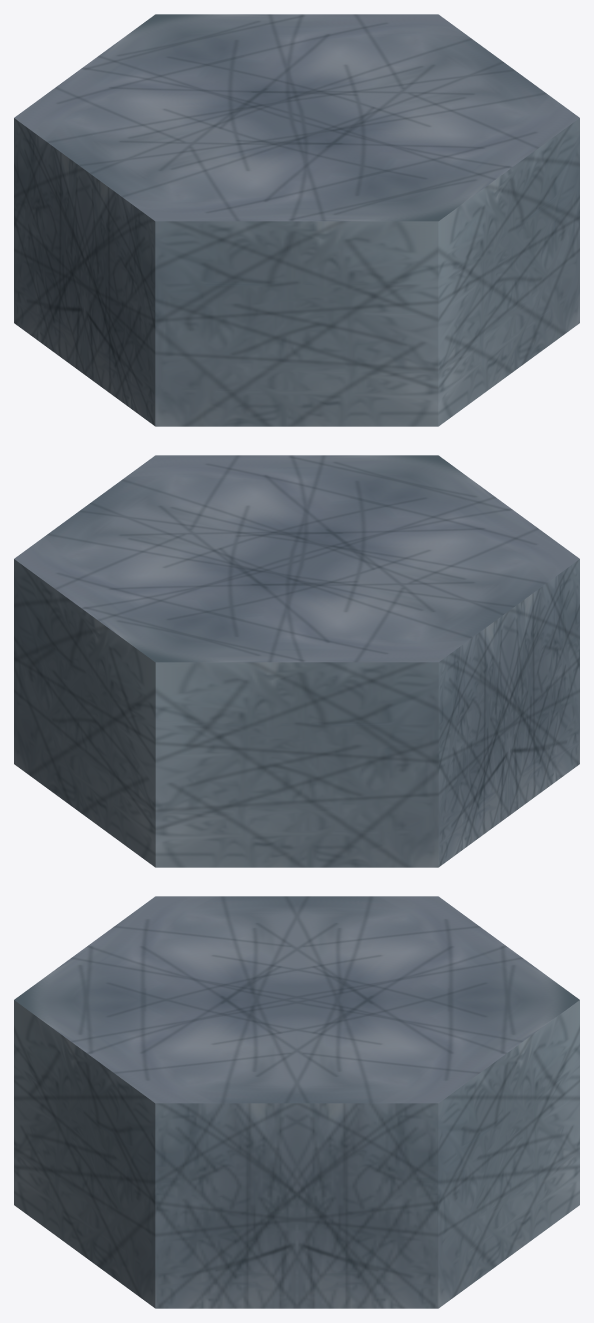
File: hex-block-stone-grey.glb
3 renders of one model, top to bottom at view 1: azimuth 30°, elevation 25°; view 2: azimuth 150°, elevation 25°; view 3: azimuth 270°, elevation 25°, orthographic.
Visible parts, largest first — view 1: Cylinder; view 2: Cylinder; view 3: Cylinder.
Part boxes in pixels (bbox=[...]): Cylinder: bbox=[14, 14, 579, 426]; Cylinder: bbox=[14, 455, 579, 867]; Cylinder: bbox=[14, 896, 579, 1308].
Bounding box in the file's own units: 0.866 × 0.4 × 1.
Materials: 1 (1 with a texture image).
